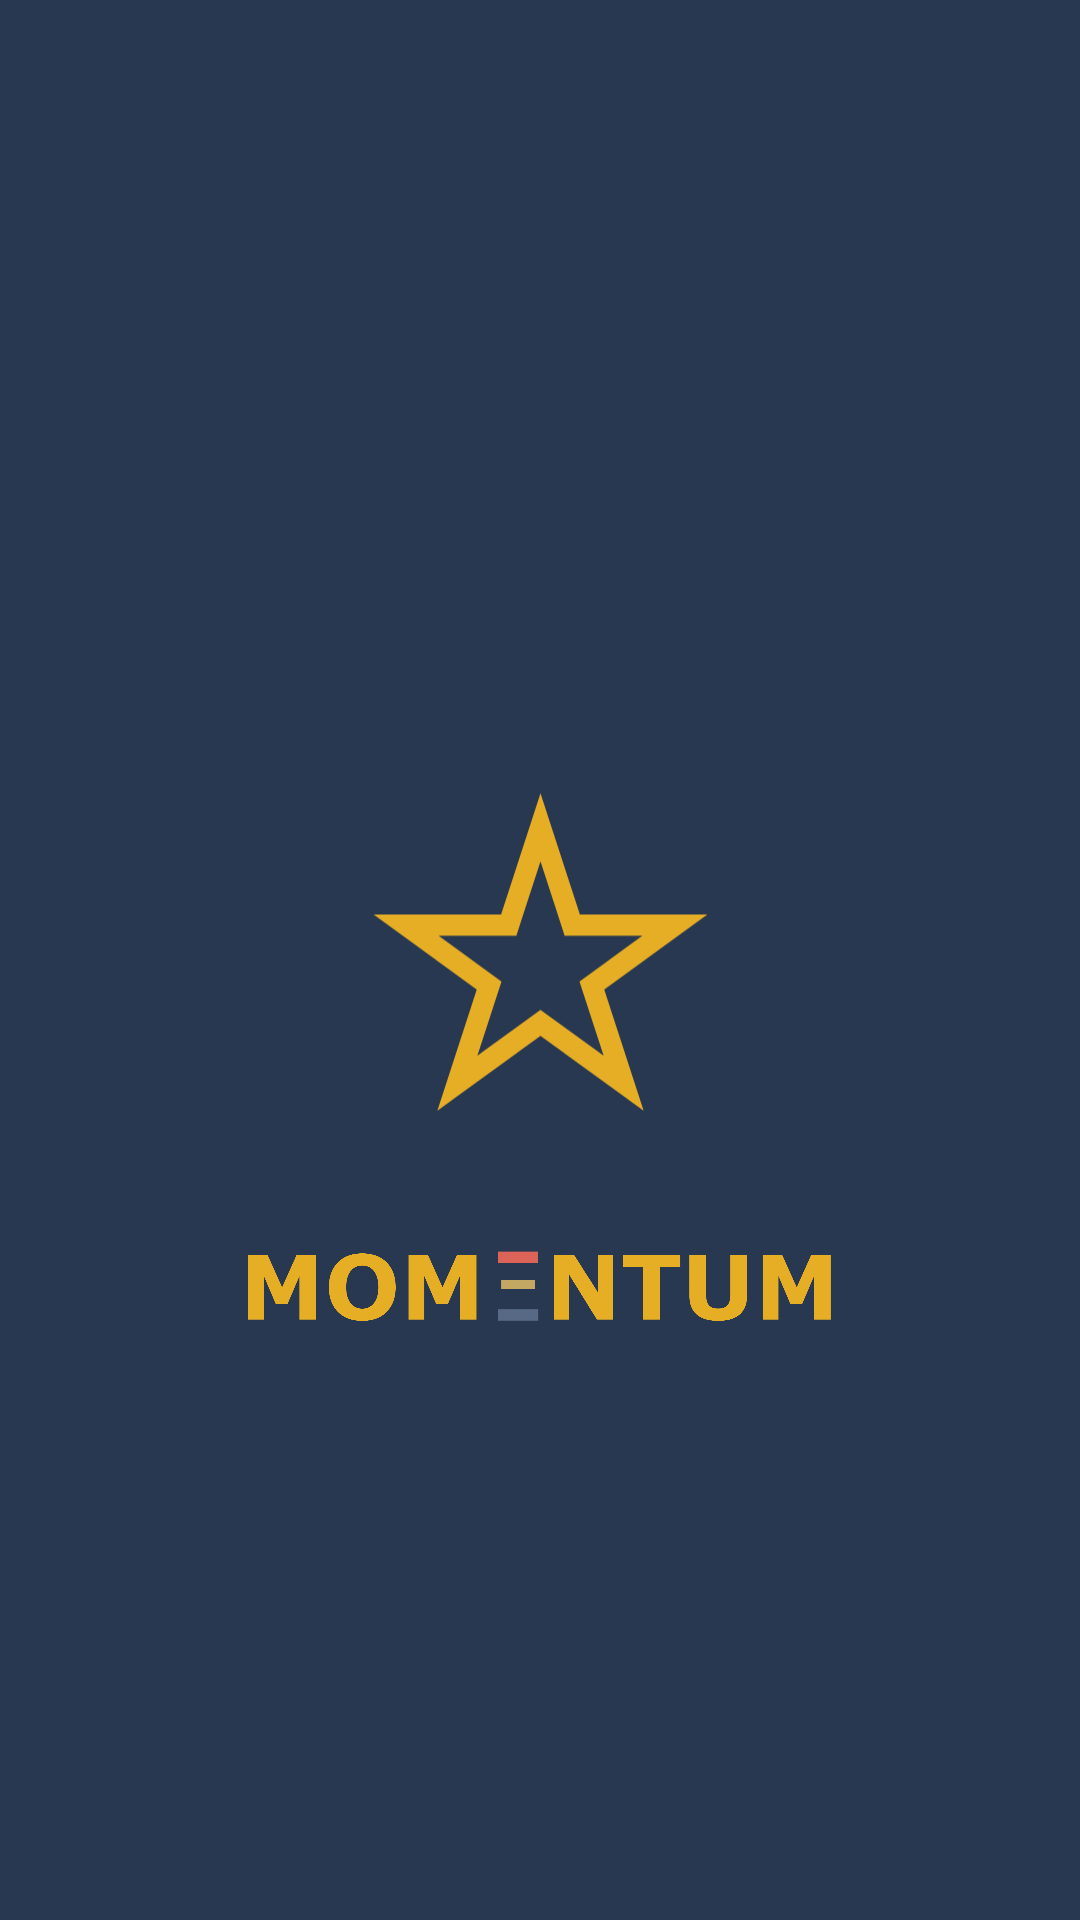

Icon bounding boxes for this 1080px×1920px phone screenshot, format box=[x1, y1, x2, y2]:
star: box=[374, 793, 707, 1111]
